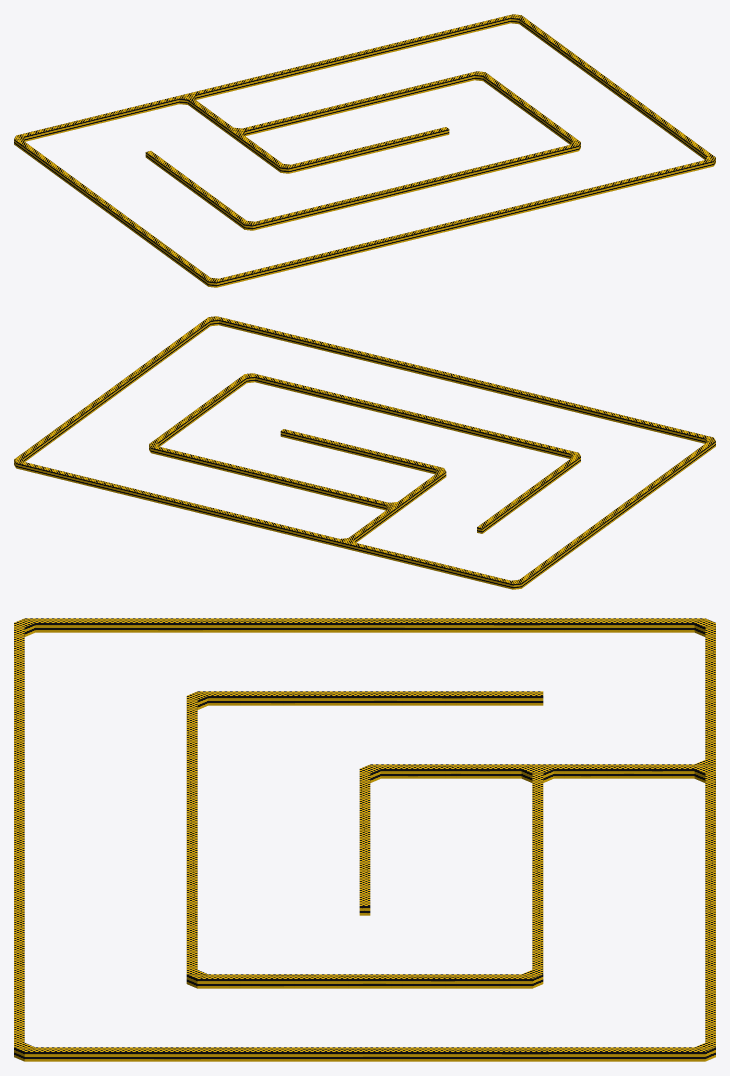
The model's file is Sprint Track S.fbx.
3 views of the same model, one above another, from view 1: azimuth 30°, elevation 25°; view 2: azimuth 150°, elevation 25°; view 3: azimuth 270°, elevation 25° (orthographic). The views are drawn at different scales.
Parts seen in each view (by area): view 1: Sprint_Track_S; view 2: Sprint_Track_S; view 3: Sprint_Track_S.
Boxes of the visible parts, x1,y1,x2,y2 form: Sprint_Track_S: (14,14,715,287); Sprint_Track_S: (14,316,715,589); Sprint_Track_S: (14,618,715,1061).
Size of the model in its own units: 9500 by 100 by 6500.
